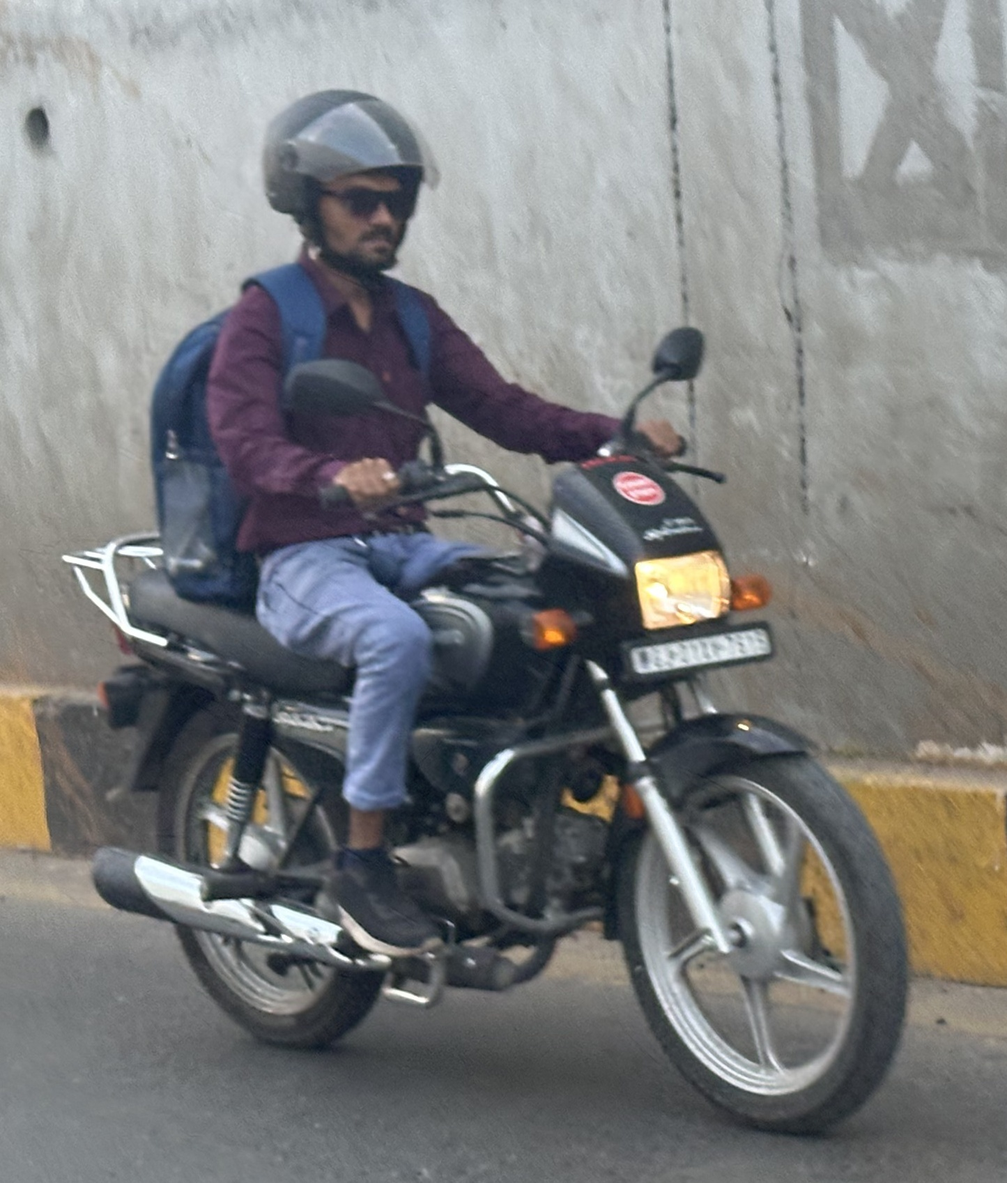BikeWithRider: (51, 71, 920, 1145)
Helmet: (234, 78, 450, 288)
